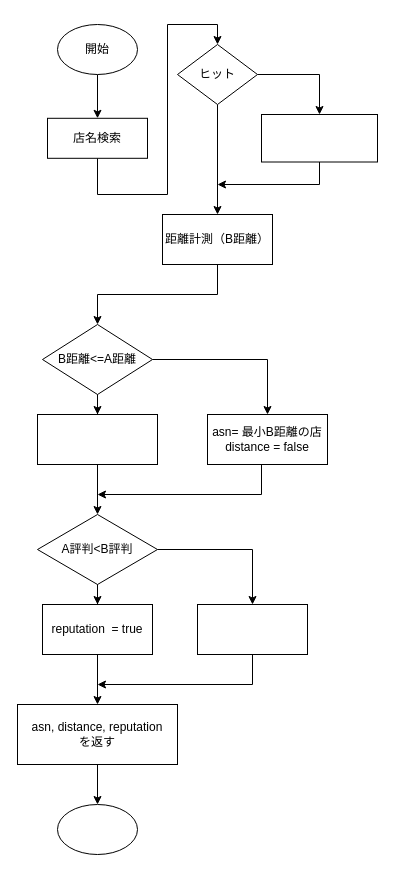
The diagram is 395 pixels wide and 872 high, and some of its shapes have lost their labels. Each missing label, with the box of its shape:
ans= 最小B距離の店 distance = true: (36, 414, 158, 464)
reputation = false: (196, 604, 308, 654)
カテゴリー検索: (260, 114, 378, 162)
終了: (56, 804, 138, 854)
